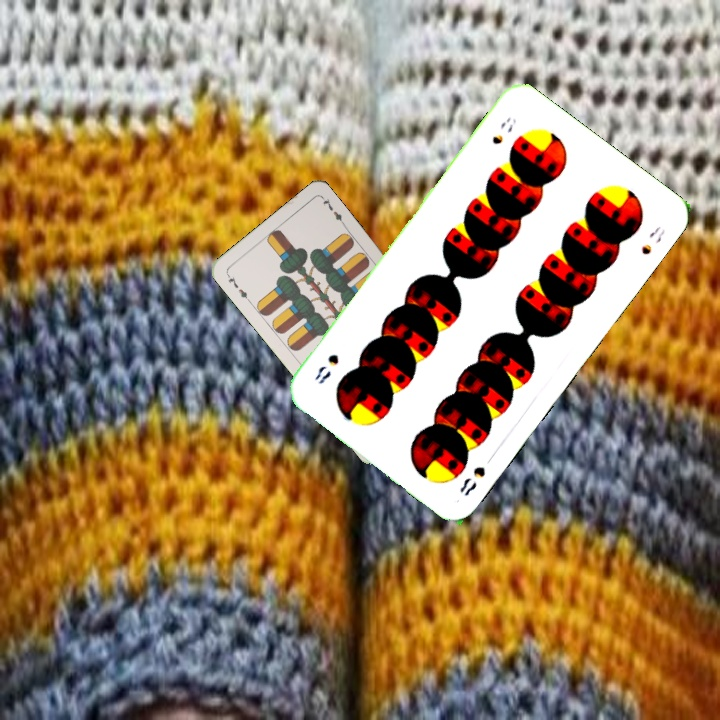E7: (223, 270, 252, 304)
S8: (455, 462, 488, 499), (487, 112, 519, 147)
